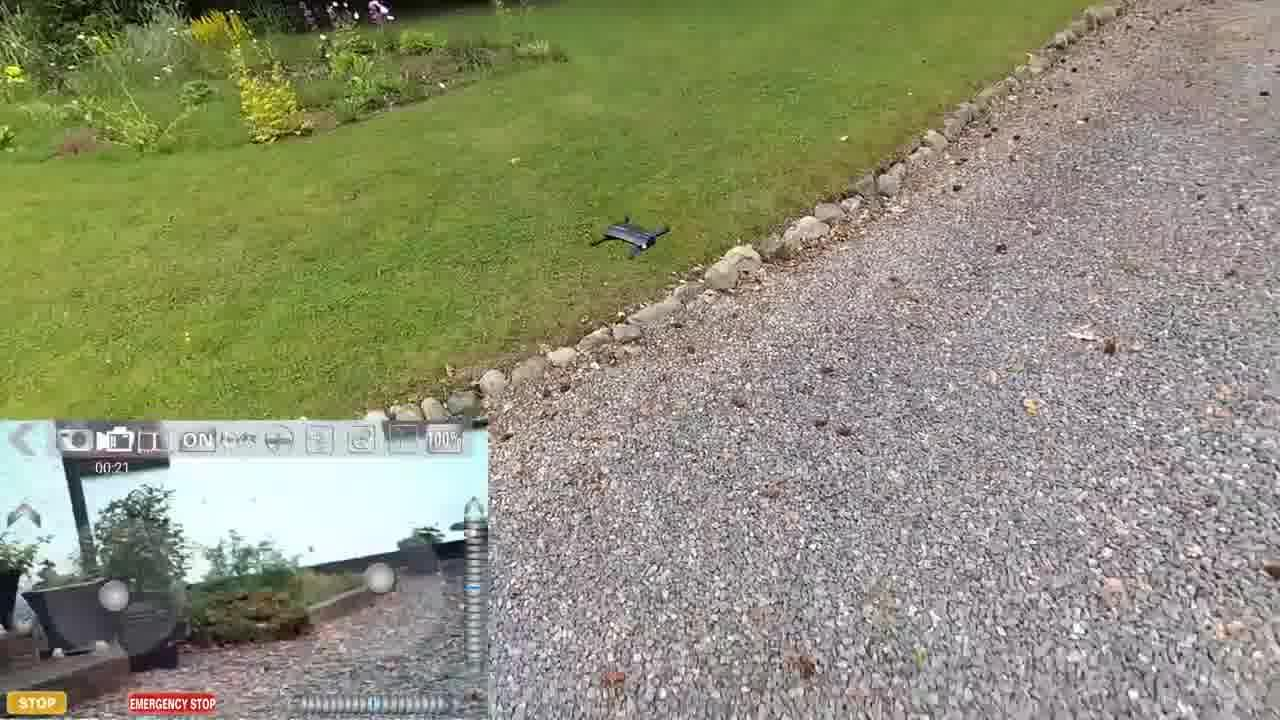drone: (583, 199, 682, 267)
